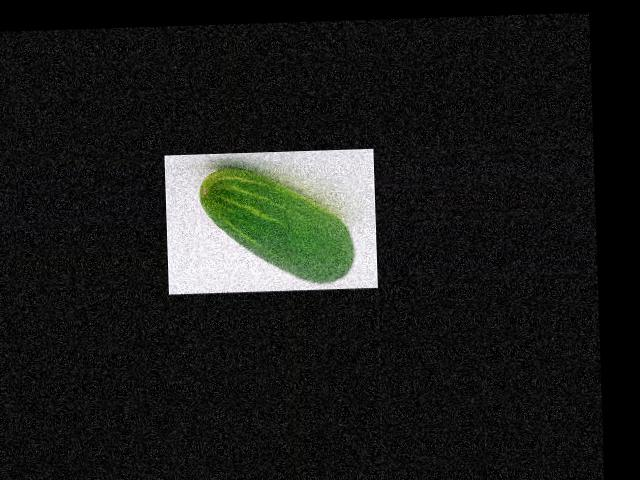cucumber: (199, 164, 355, 286)
